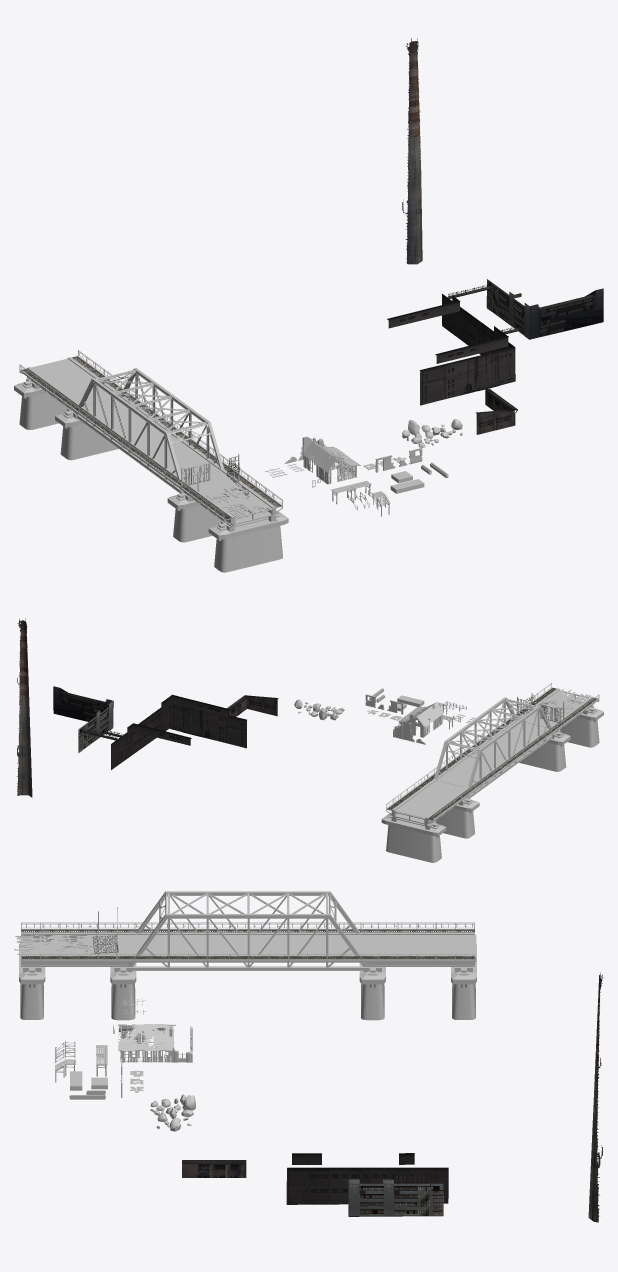
The model's file is buildings2.FBX.
3 renders of one model, top to bottom at view 1: azimuth 30°, elevation 25°; view 2: azimuth 150°, elevation 25°; view 3: azimuth 270°, elevation 25°, orthographic. The views are drawn at different scales.
Visible parts, largest first — view 1: industry_far_view, metal, concrete_ncl1_2, concrete_ncl1_1, wood03, alphas, wood, dirt; view 2: industry_far_view, metal, concrete_ncl1_2, concrete_ncl1_1, wood03, alphas, dirt; view 3: metal, industry_far_view, concrete_ncl1_1, concrete_ncl1_2, wood03, alphas, metal01, dirt, wood.
Part boxes in pixels (x1,y1,x2,y2): industry_far_view: [387, 38, 603, 434]; metal: [19, 350, 282, 541]; concrete_ncl1_2: [14, 378, 288, 572]; concrete_ncl1_1: [27, 357, 275, 527]; wood03: [31, 358, 272, 523]; alphas: [21, 353, 281, 519]; wood: [304, 440, 360, 484]; dirt: [303, 442, 360, 472]; industry_far_view: [16, 618, 278, 797]; metal: [386, 683, 599, 837]; concrete_ncl1_2: [381, 705, 603, 862]; concrete_ncl1_1: [392, 688, 593, 826]; wood03: [394, 689, 590, 823]; alphas: [387, 688, 597, 819]; dirt: [398, 702, 443, 726]; metal: [21, 891, 474, 987]; industry_far_view: [182, 972, 603, 1222]; concrete_ncl1_1: [21, 932, 474, 966]; concrete_ncl1_2: [19, 942, 476, 1020]; wood03: [14, 934, 476, 962]; alphas: [21, 924, 474, 959]; metal01: [21, 942, 474, 965]; dirt: [118, 1024, 172, 1051]; wood: [118, 1024, 175, 1062].
Size of the model in its own units: 10235 by 4671 by 8848.
